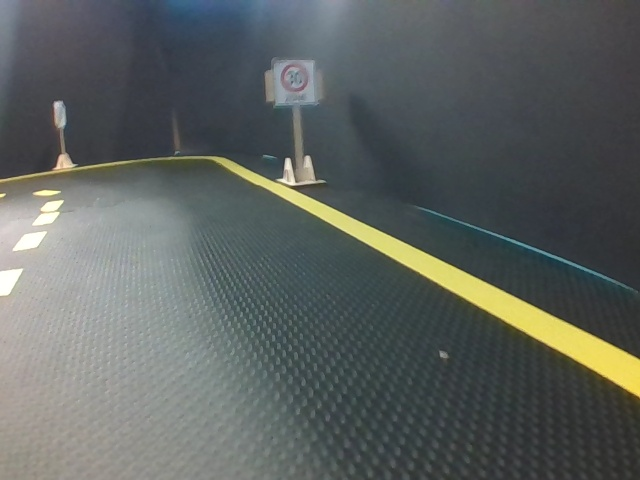30: (272, 60, 316, 105)
no30: (53, 100, 67, 128)
